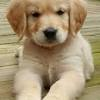Golden Retriever: (7, 1, 91, 99)
